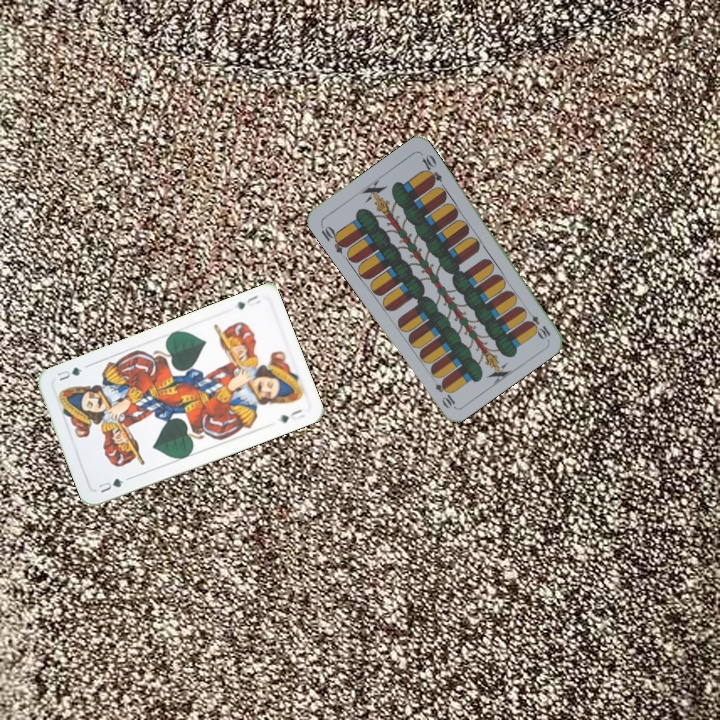E10: (521, 305, 553, 342), (317, 221, 350, 256)
GU: (94, 474, 126, 496), (232, 291, 263, 312)
